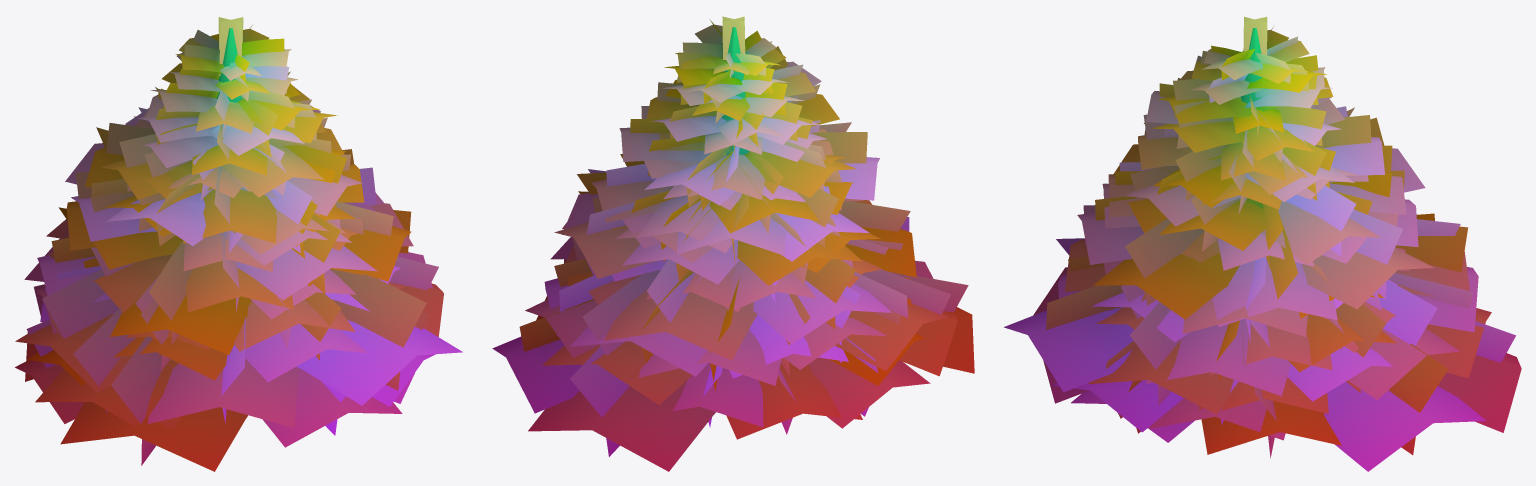
File: SM_Tree_Pine_03.fbx
The picture shows the model from 3 angles, left to right: view 1: azimuth 30°, elevation 25°; view 2: azimuth 150°, elevation 25°; view 3: azimuth 270°, elevation 25°; orthographic projection. The views are drawn at different scales.
Visible parts, largest first — view 1: SM_Tree_Pine_03_LOD0; view 2: SM_Tree_Pine_03_LOD0; view 3: SM_Tree_Pine_03_LOD0.
Boxes of the visible parts, x1,y1,x2,y2 form: SM_Tree_Pine_03_LOD0: (15, 17, 462, 471); SM_Tree_Pine_03_LOD0: (492, 16, 974, 471); SM_Tree_Pine_03_LOD0: (1004, 16, 1521, 471).
Size of what is drawn, in the model's own units: 11.1 by 9.92 by 12.06.
